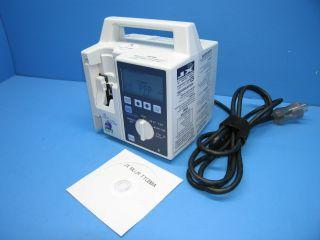plumxl1: (83, 15, 214, 151)
